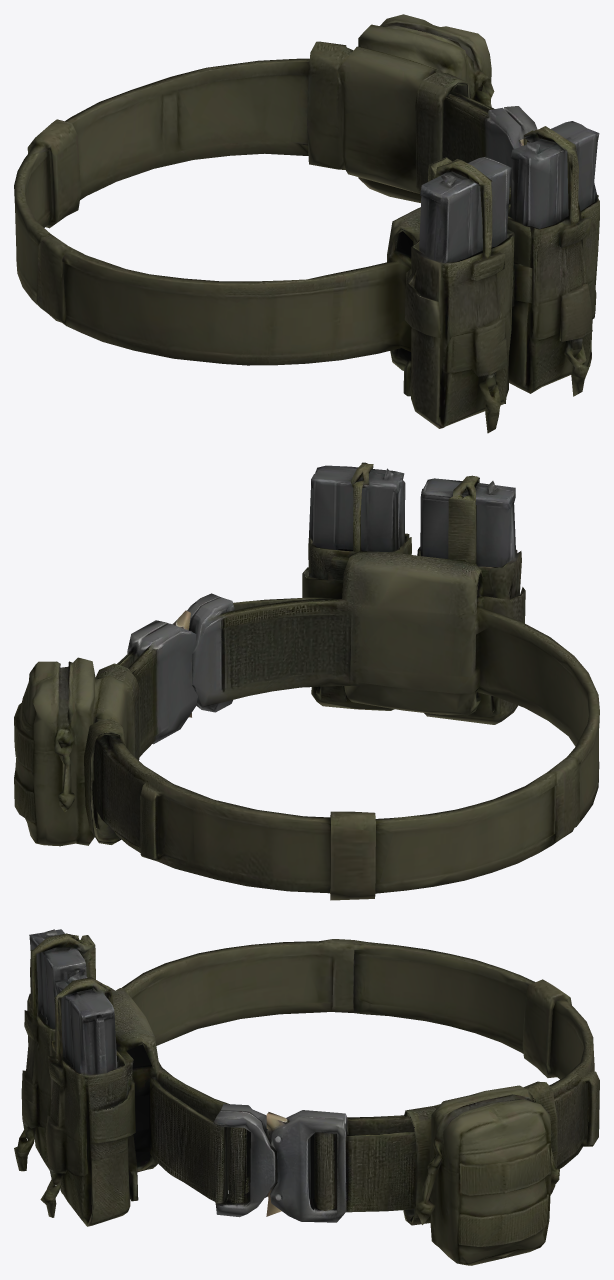
File: military_belt.glb
The picture shows the model from 3 angles, top to bottom: view 1: azimuth 30°, elevation 25°; view 2: azimuth 150°, elevation 25°; view 3: azimuth 270°, elevation 25°; orthographic projection. The views are drawn at different scales.
Visible parts, largest first — view 1: military_belt; view 2: military_belt; view 3: military_belt.
Boxes of the visible parts, left/top/right/bottom form: military_belt: left=14, top=14, right=599, bottom=433; military_belt: left=14, top=462, right=599, bottom=900; military_belt: left=14, top=929, right=599, bottom=1265.
Bounding box in the file's own units: 0.3678 × 0.1762 × 0.4.
Materials: 1 (1 with a texture image).
